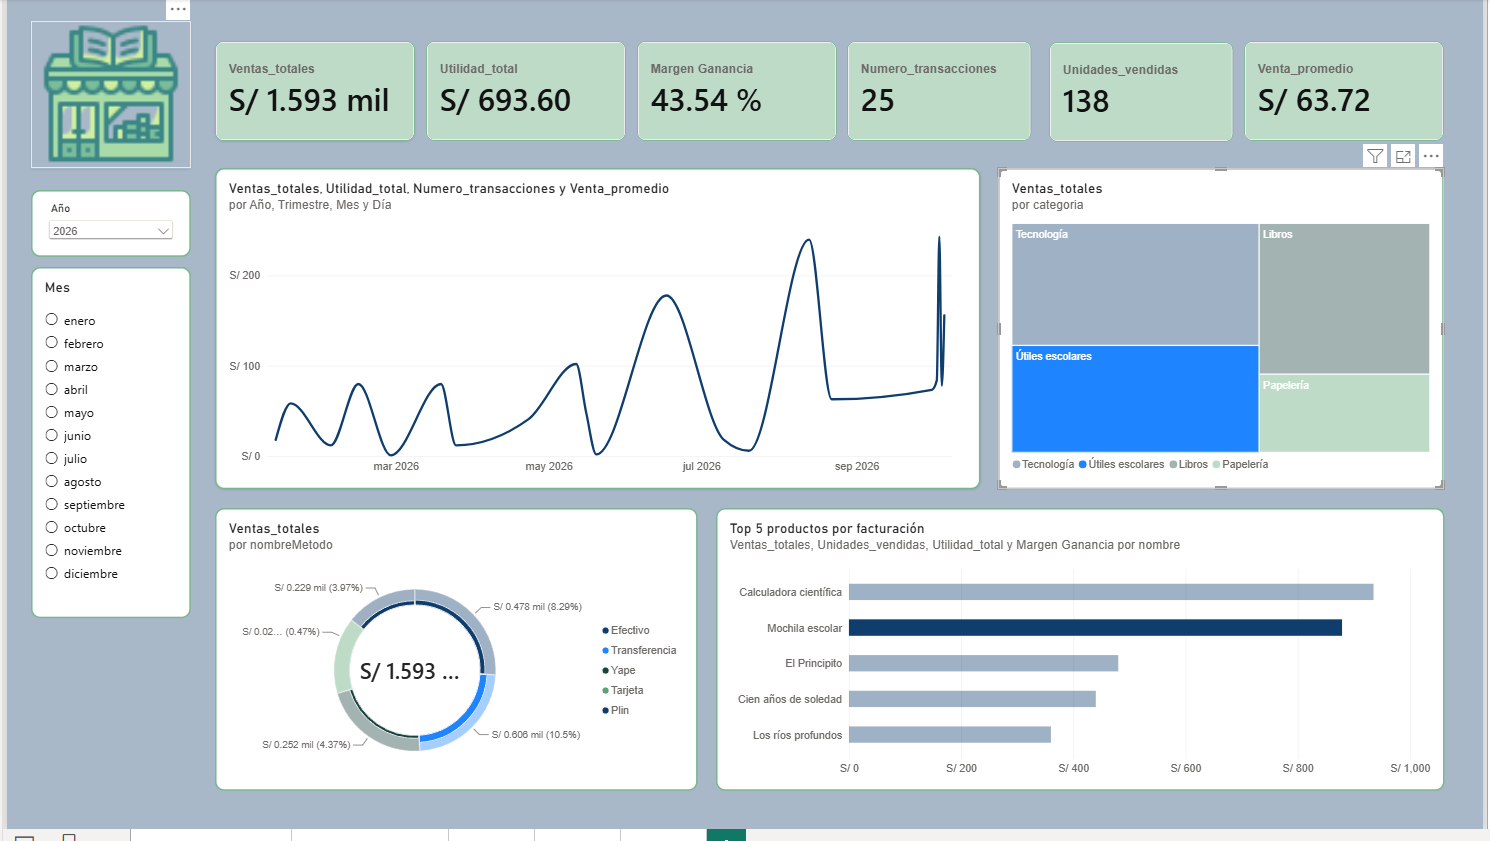

The dashboard page shown, as its layout file describes it:
{"tool":"powerbi","page":{"name":"RESUMEN_EJECUTIVO","canvas":[1920,1080],"ordinal":3},"visuals":[{"type":"cardVisual","fields":{"Data":["fac_ventas.Ventas_totales"]},"box":[270,55,260,130],"z":0},{"type":"cardVisual","fields":{"Data":["fac_ventas.Utilidad_total"]},"box":[545,55,260,130],"z":1000},{"type":"cardVisual","fields":{"Data":["fac_ventas.Margen Ganancia"]},"box":[820,55,260,130],"z":2000},{"type":"cardVisual","fields":{"Data":["fac_ventas.Numero_transacciones"]},"box":[1093.3,55,240,130],"z":3000},{"type":"cardVisual","fields":{"Data":["fac_ventas.Unidades_vendidas"]},"box":[1356,56,240,130],"z":4000},{"type":"cardVisual","fields":{"Data":["fac_ventas.Venta_promedio"]},"box":[1610,54,260,130],"z":5000},{"type":"lineChart","fields":{"Category":["dim_tiempo.fecha.Variación.Jerarquía de fechas.Año","dim_tiempo.fecha.Variación.Jerarquía de fechas.Trimestre","dim_tiempo.fecha.Variación.Jerarquía de fechas.Mes","dim_tiempo.fecha.Variación.Jerarquía de fechas.Día"],"Y":["fac_ventas.Ventas_totales"]},"box":[270,220,996,418],"z":6000},{"type":"clusteredBarChart","title":"Top 5 productos por facturación","fields":{"Category":["dim_producto.nombre"],"Y":["fac_ventas.Ventas_totales"]},"box":[922,662,948,368],"z":7000},{"type":"listSlicer","fields":{"Values":["dim_tiempo.fecha.Variación.Jerarquía de fechas.Mes"]},"box":[31.7,348.3,208.3,456.7],"z":8000},{"type":"treemap","fields":{"Group":["dim_producto.categoria"],"Values":["fac_ventas.Ventas_totales"]},"box":[1290,220,580,418],"z":9000},{"type":"slicer","fields":{"Values":["dim_tiempo.fecha.Variación.Jerarquía de fechas.Año"]},"box":[31.7,248.3,208.3,86.7],"z":10000},{"type":"donutChart","fields":{"Category":["dim_metodoPago.nombreMetodo"],"Y":["fac_ventas.Ventas_totales"]},"box":[270,662,628,368],"z":11000},{"type":"image","box":[31.7,28.3,208.3,191.7],"z":12000}]}

Visuals, with their boxes in screenshot pixels (x1, y1, x2, y2):
cardVisual - fac_ventas.Ventas_totales: (x1=214, y1=38, x2=413, y2=138)
cardVisual - fac_ventas.Utilidad_total: (x1=425, y1=38, x2=624, y2=138)
cardVisual - fac_ventas.Margen Ganancia: (x1=635, y1=38, x2=834, y2=138)
cardVisual - fac_ventas.Numero_transacciones: (x1=844, y1=38, x2=1028, y2=138)
cardVisual - fac_ventas.Unidades_vendidas: (x1=1046, y1=39, x2=1229, y2=138)
cardVisual - fac_ventas.Venta_promedio: (x1=1240, y1=37, x2=1439, y2=137)
lineChart - dim_tiempo.fecha.Variación.Jerarquía de fechas.Año x dim_tiempo.fecha.Variación.Jerarquía de fechas.Trimestre: (x1=214, y1=164, x2=977, y2=484)
"Top 5 productos por facturación" clusteredBarChart: (x1=713, y1=503, x2=1439, y2=784)
listSlicer - dim_tiempo.fecha.Variación.Jerarquía de fechas.Mes: (x1=32, y1=263, x2=191, y2=612)
treemap - dim_producto.categoria x fac_ventas.Ventas_totales: (x1=995, y1=164, x2=1439, y2=484)
slicer - dim_tiempo.fecha.Variación.Jerarquía de fechas.Año: (x1=32, y1=186, x2=191, y2=252)
donutChart - dim_metodoPago.nombreMetodo x fac_ventas.Ventas_totales: (x1=214, y1=503, x2=695, y2=784)
image: (x1=32, y1=18, x2=191, y2=164)
